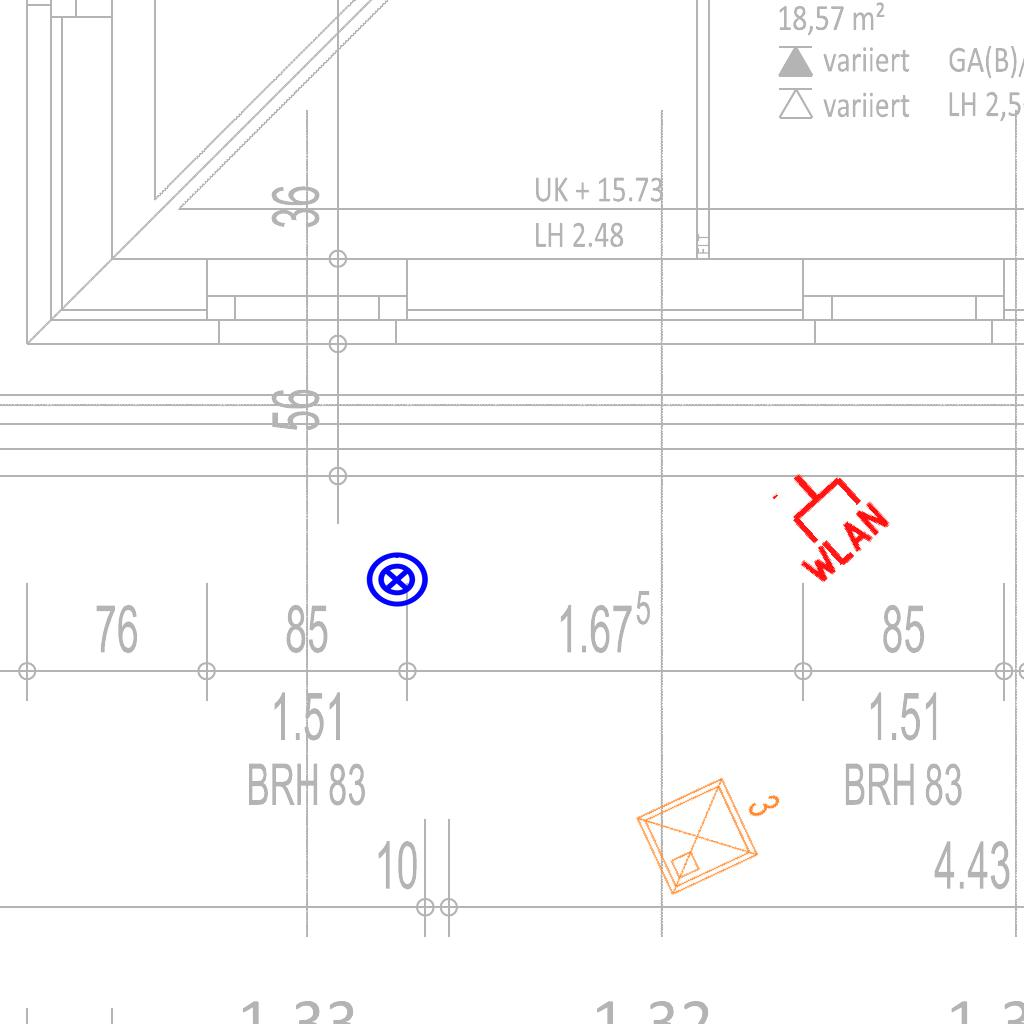Einbaudownlights_LED_Konferenzraeume: (625, 747, 805, 905)
Taster_beleuchtet: (364, 547, 430, 613)
WLAN: (747, 444, 896, 592)
